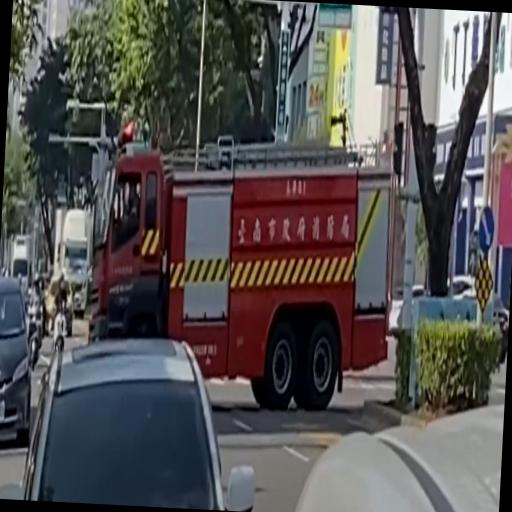fire truck: (90, 122, 394, 409)
